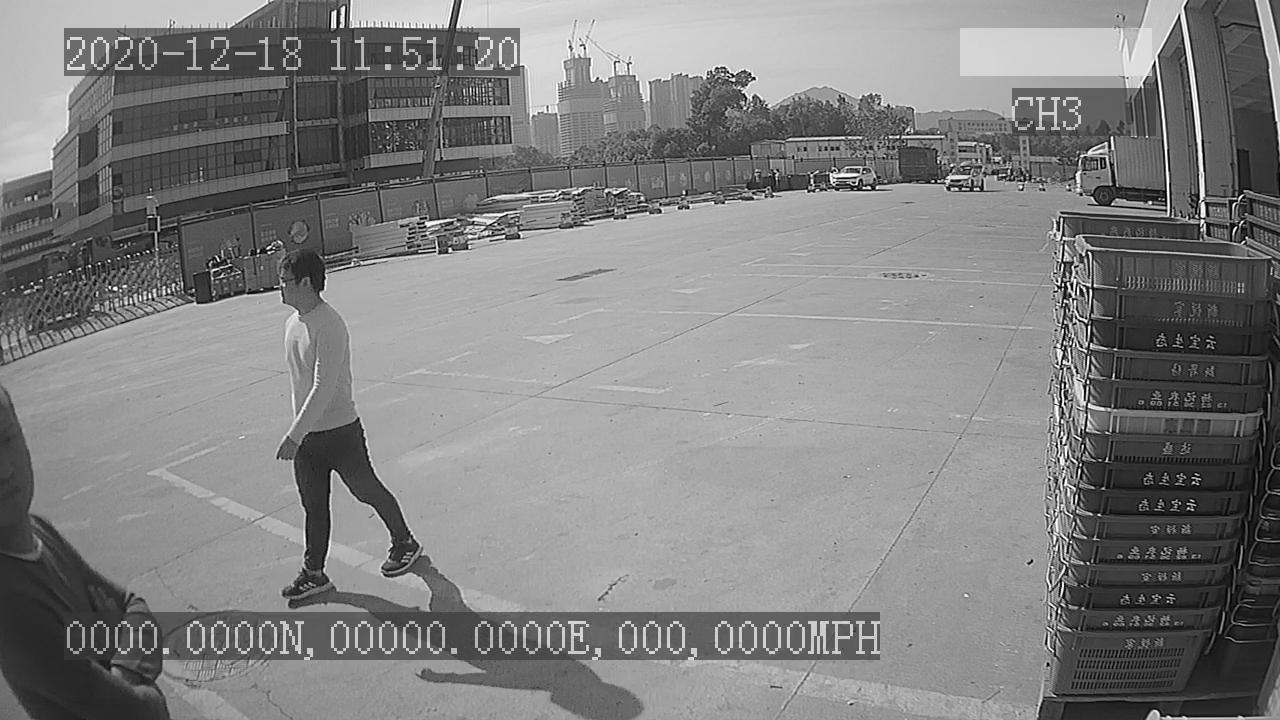person: (265, 245, 429, 606)
